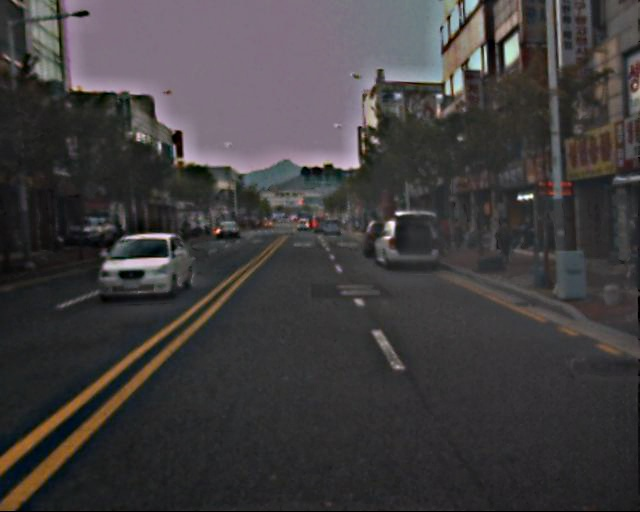person: (494, 217, 515, 268), (439, 209, 455, 249), (452, 217, 464, 247)
